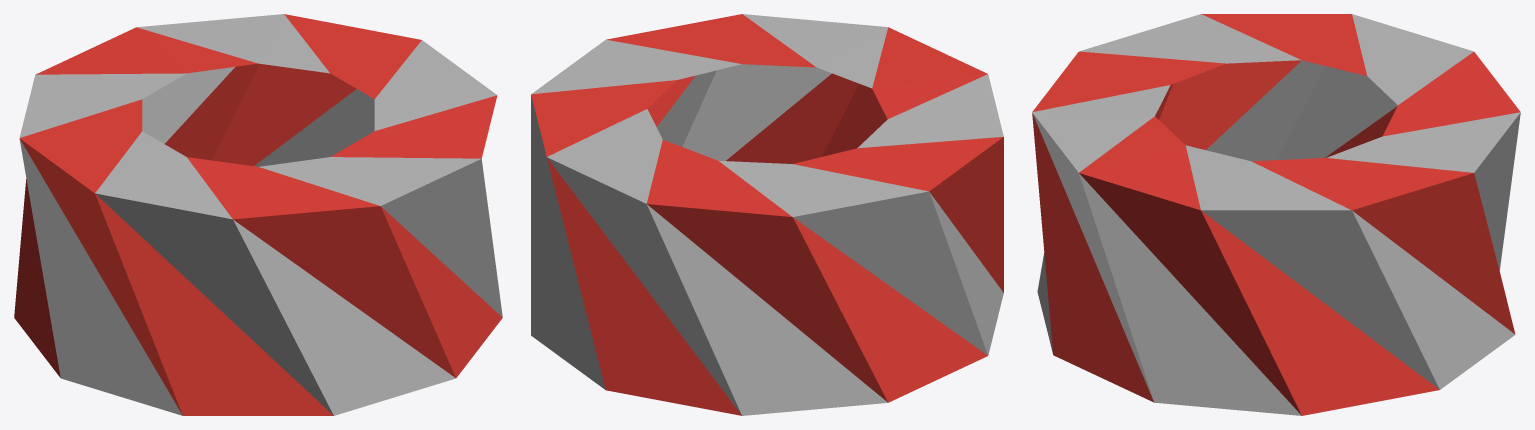
The model's file is Celluvoyer_wheel_0_1.dae.
3 views of the same model, side by side, from view 1: azimuth 30°, elevation 25°; view 2: azimuth 150°, elevation 25°; view 3: azimuth 270°, elevation 25° (orthographic).
Visible parts, largest first — view 1: Cylinder; view 2: Cylinder; view 3: Cylinder.
Part boxes in pixels (bbox=[...]): Cylinder: bbox=[14, 14, 502, 415]; Cylinder: bbox=[531, 14, 1003, 415]; Cylinder: bbox=[1032, 14, 1520, 415].
Bounding box in the file's own units: 0.0557 × 0.056 × 0.0258.
